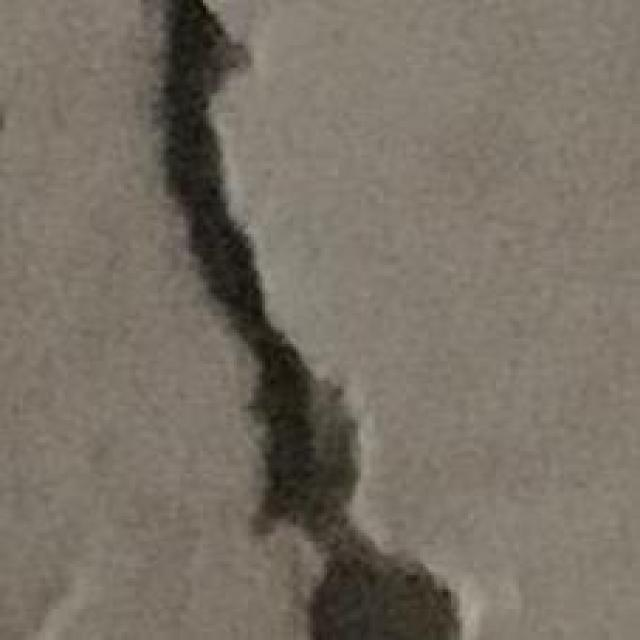Crack: (138, 3, 474, 640)
